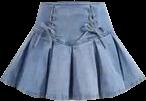Hemline: (0, 78, 145, 100)
Waistline: (35, 23, 114, 45), (40, 1, 103, 4)
